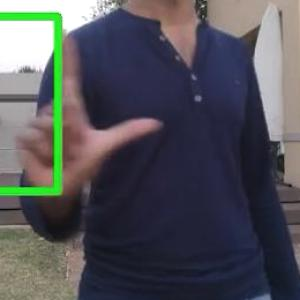land_hand: (3, 22, 163, 203)
